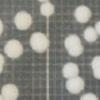white: (2, 36, 24, 62), (28, 31, 51, 54), (12, 10, 34, 31), (64, 74, 85, 96), (72, 4, 94, 24), (61, 60, 81, 81), (61, 31, 82, 50), (0, 82, 20, 99), (81, 27, 98, 44), (39, 2, 56, 19), (67, 43, 85, 59), (88, 55, 100, 69), (91, 64, 100, 82), (79, 92, 99, 100), (0, 18, 6, 41), (32, 0, 53, 6), (94, 19, 100, 38), (0, 51, 6, 67), (0, 61, 4, 79), (0, 94, 9, 100)
